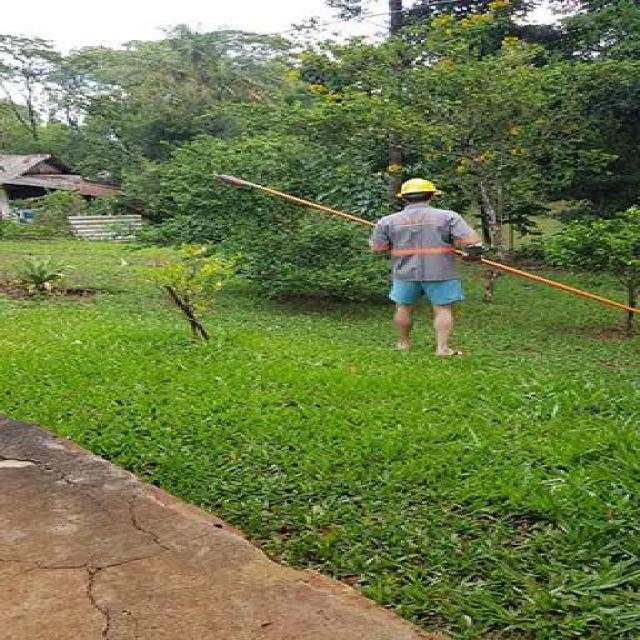helmet: (389, 178, 447, 210)
